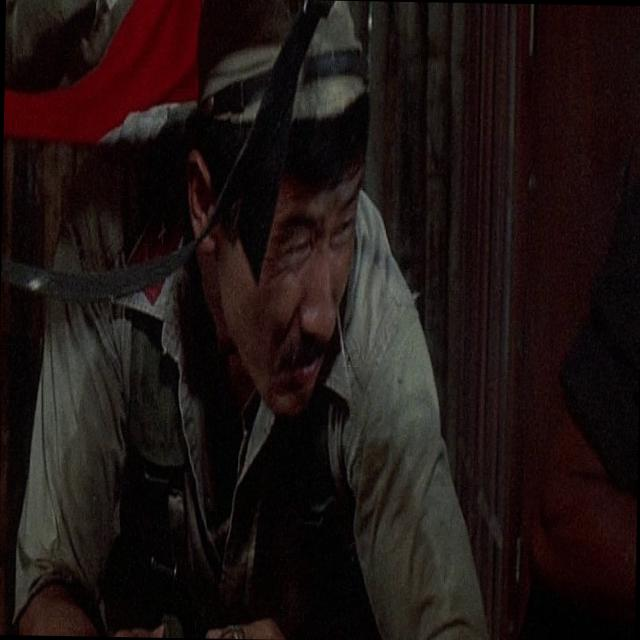Guns: (4, 0, 572, 146)
